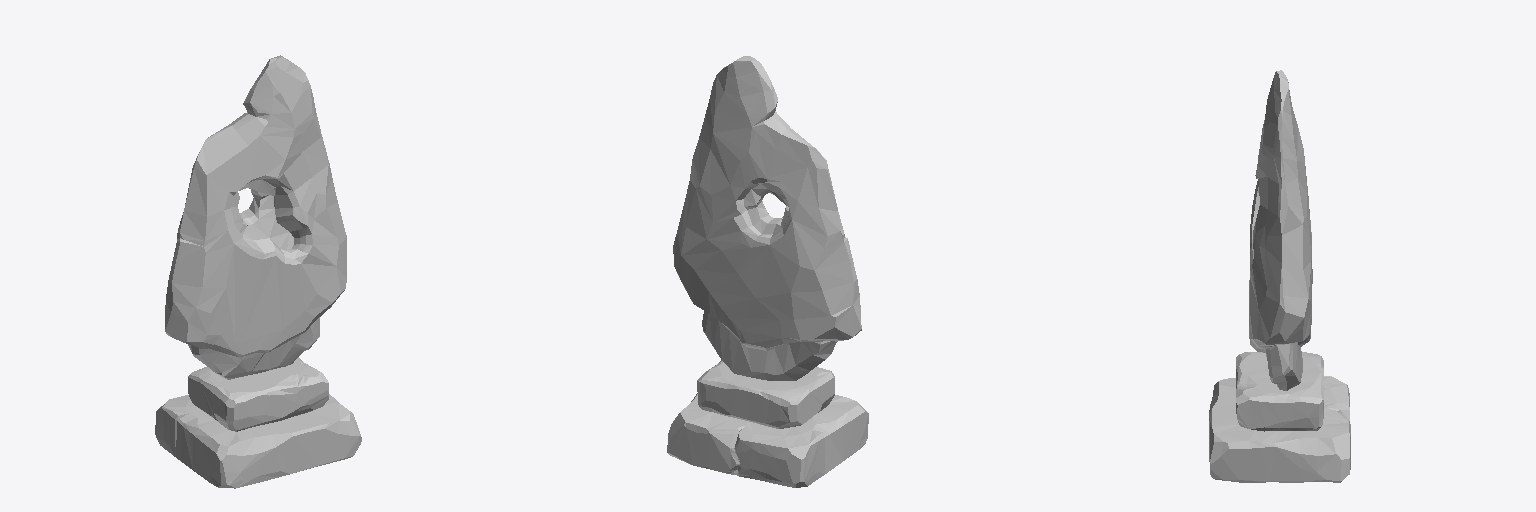
The model's file is refill.obj.
The picture shows the model from 3 angles: view 1: azimuth 30°, elevation 25°; view 2: azimuth 150°, elevation 25°; view 3: azimuth 270°, elevation 25°; orthographic projection.
Parts seen in each view (by area): view 1: Sm_Tomb_VarE_0; view 2: Sm_Tomb_VarE_0; view 3: Sm_Tomb_VarE_0.
Part boxes in pixels (x1,y1,x2,y2): Sm_Tomb_VarE_0: (155,55,361,488); Sm_Tomb_VarE_0: (667,56,868,487); Sm_Tomb_VarE_0: (1209,70,1350,482).
Bounding box in the file's own units: 1.49 × 2.98 × 0.9848.